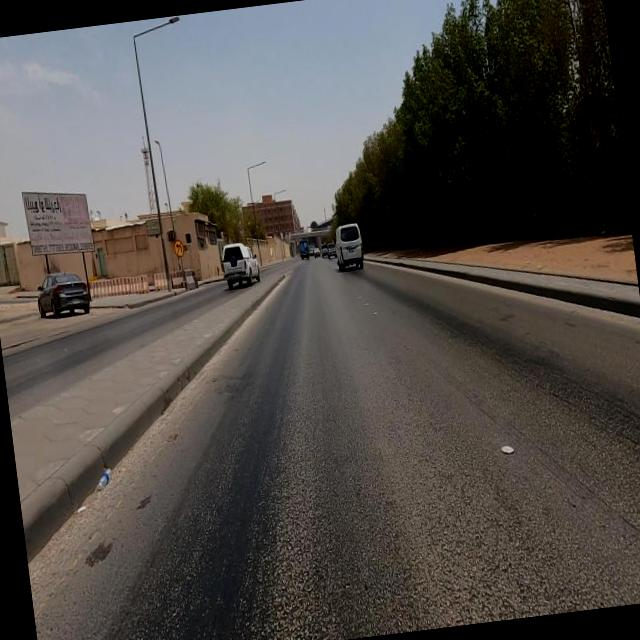debris: (0, 126, 147, 300), (67, 419, 148, 538)
